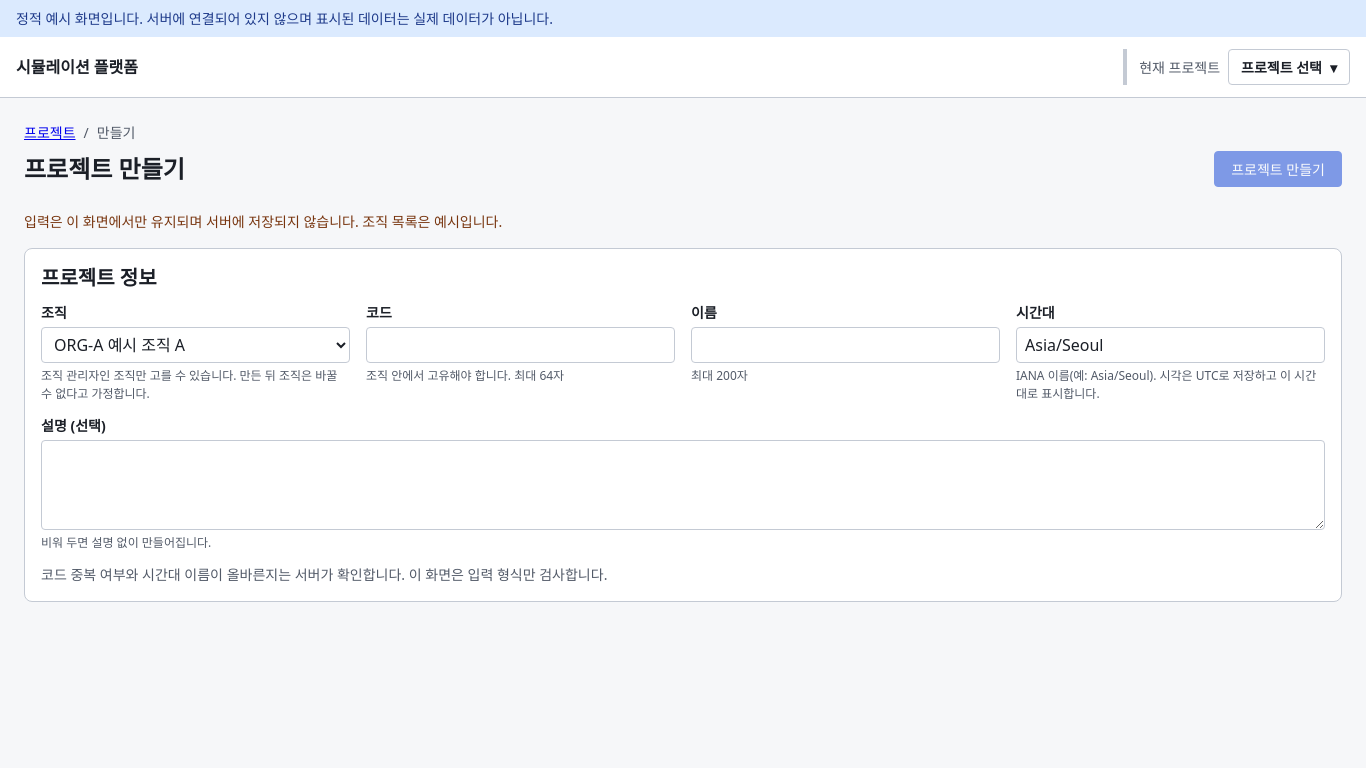
프로젝트 만들기 › 건드린 필드의 오류만 보여 준다
Type "a" into the field labelled "이름" at (846, 345), box x1=691 y1=327 x2=1000 y2=363
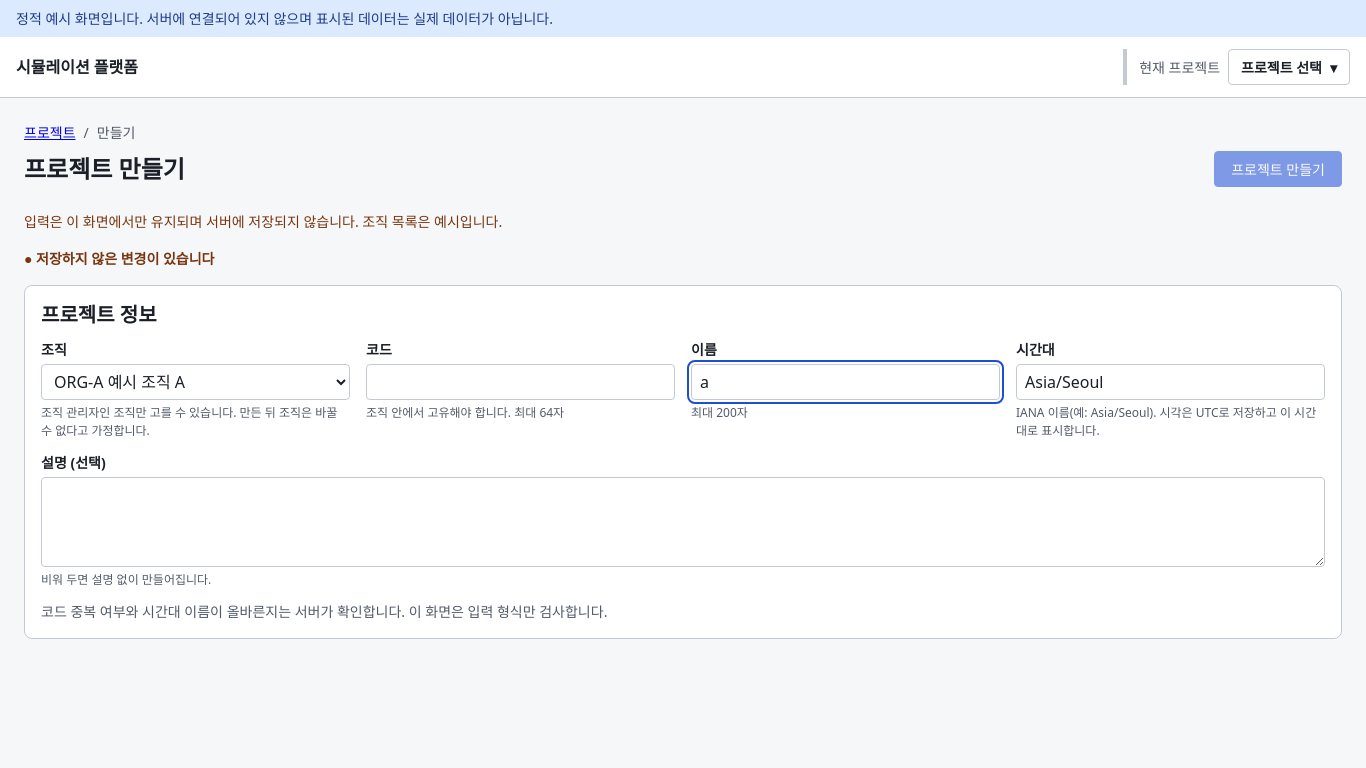
Clear the field labelled "이름" at (846, 382), box x1=691 y1=364 x2=1000 y2=400
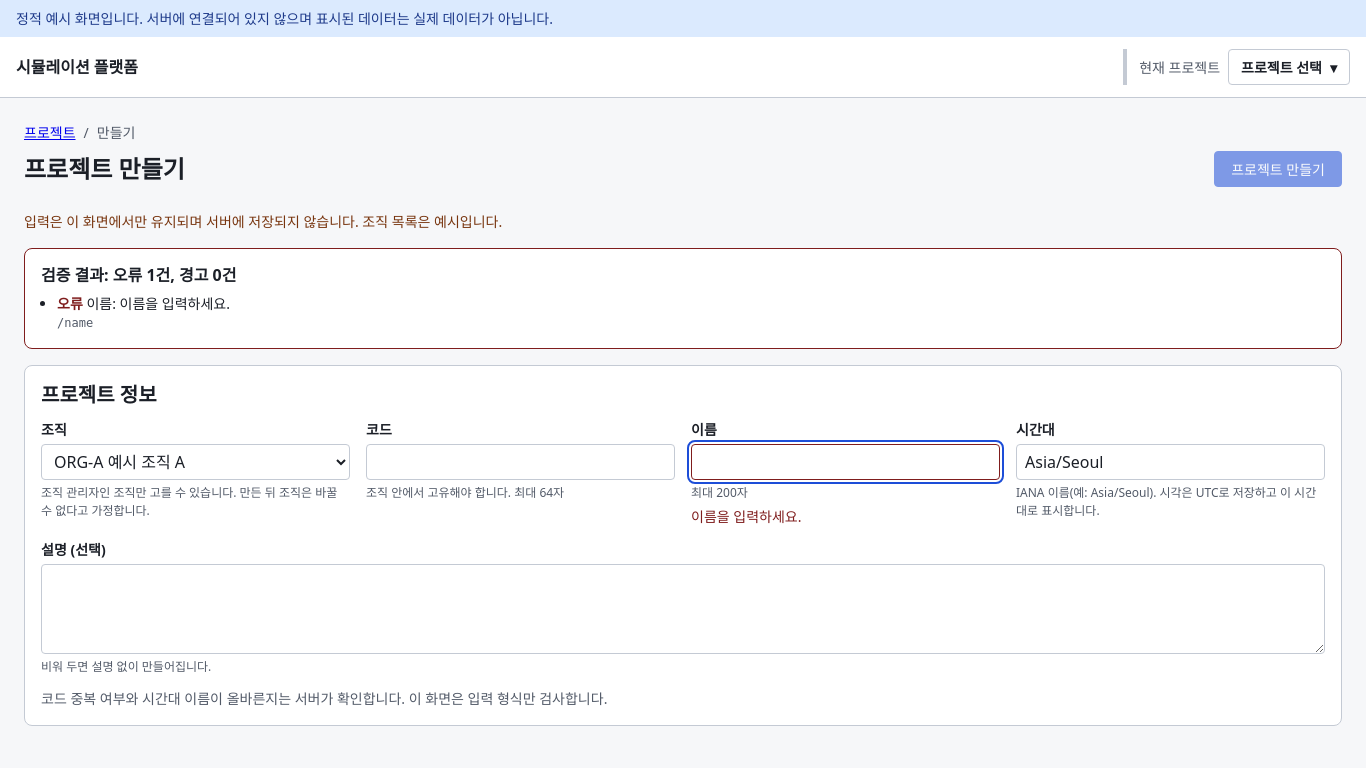
Expected: the message "검증 결과" shows "오류 1건", x1=24 y1=248 x2=1342 y2=349
